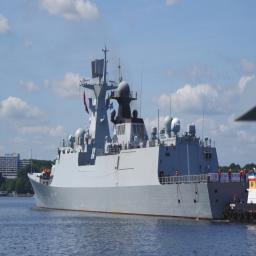Fragata: (26, 43, 253, 223)
